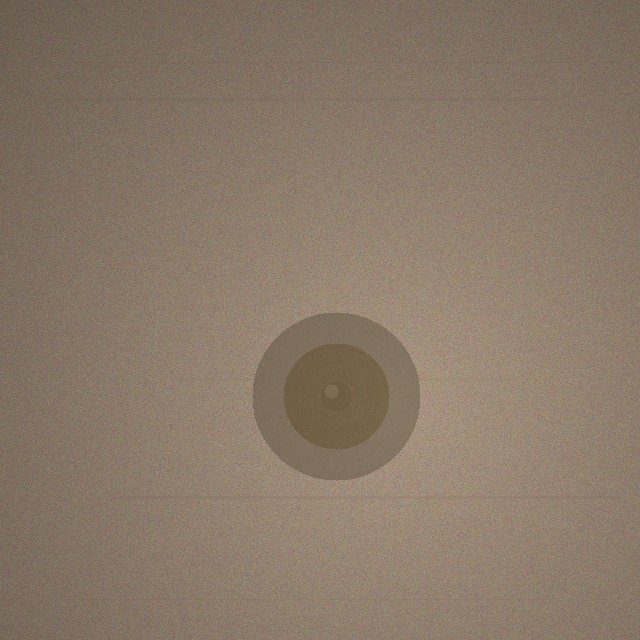good: (252, 312, 420, 480)
